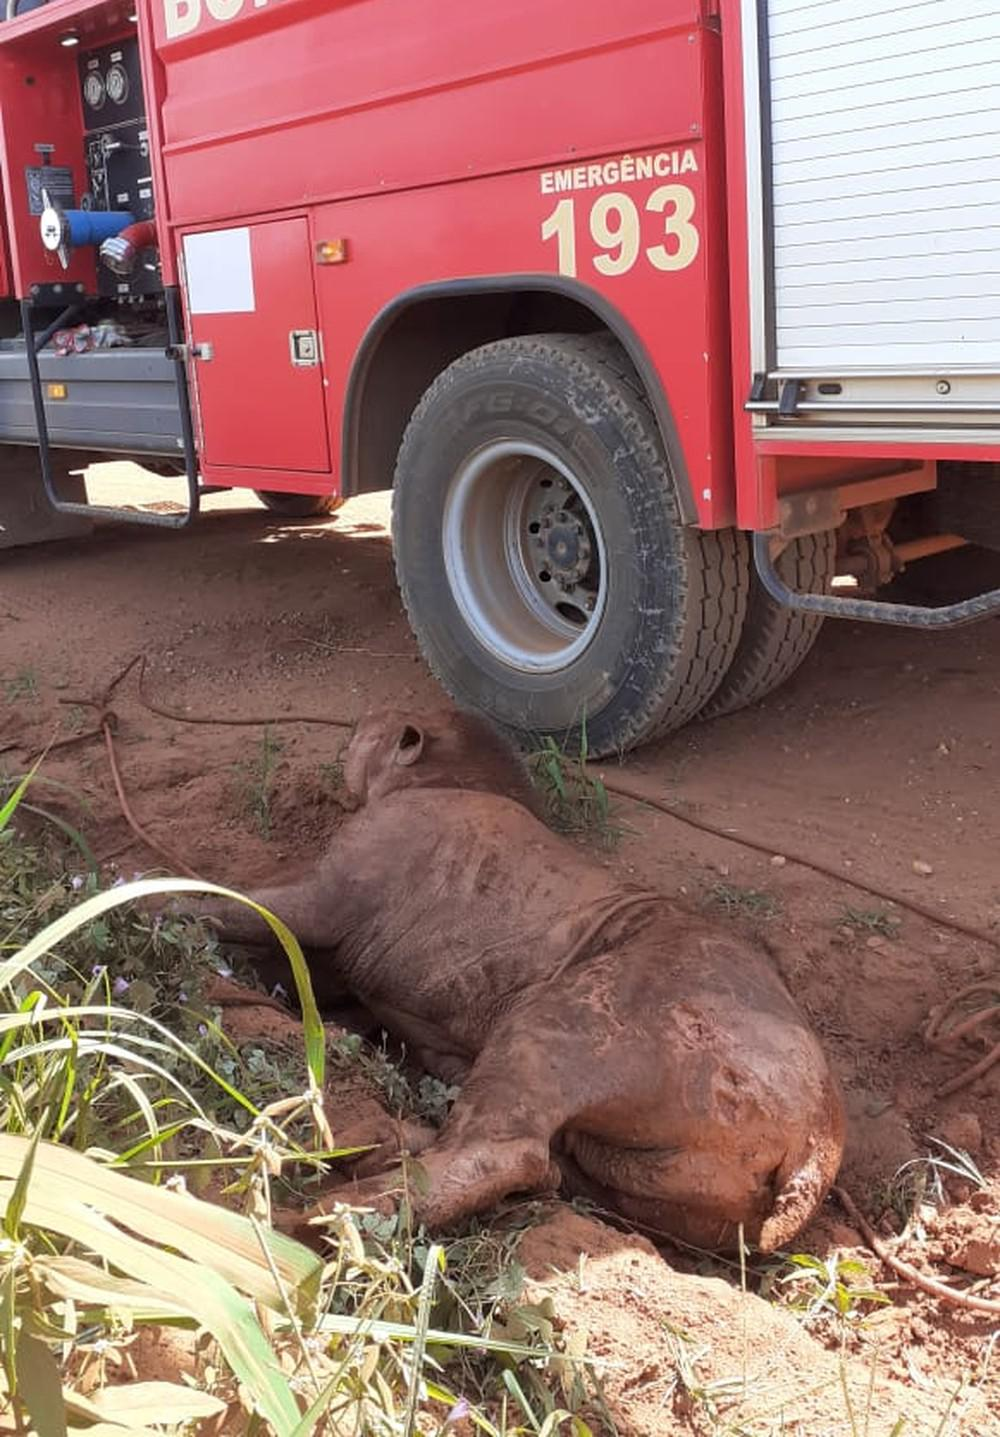Anta: (143, 675, 854, 1271)
